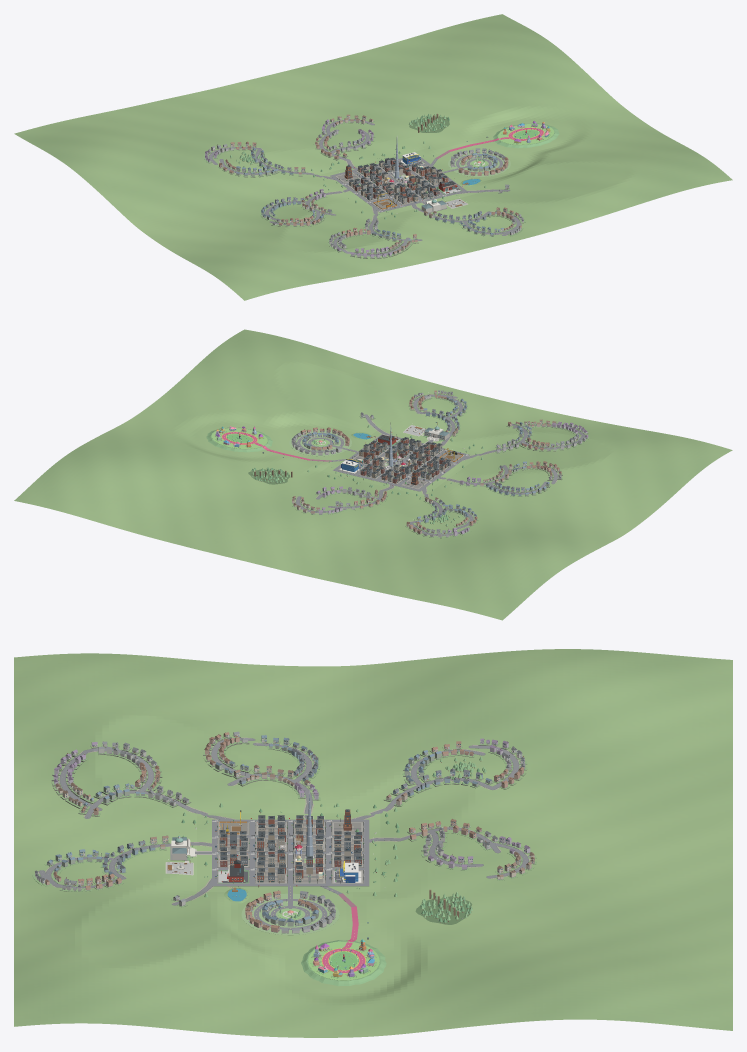
The model's file is town.glb.
The picture shows the model from 3 angles, top to bottom: view 1: azimuth 30°, elevation 25°; view 2: azimuth 150°, elevation 25°; view 3: azimuth 270°, elevation 25°; orthographic projection. The views are drawn at different scales.
Parts seen in each view (by area): view 1: regional_walkable_terrain, hillside_pads, suburban_junction_surfaces, kaleidoscope_crest_street.002, east_woods_batched.001, pad.003; view 2: regional_walkable_terrain, hillside_pads, suburban_junction_surfaces, kaleidoscope_crest_street.002, pad.003, east_woods_batched.001; view 3: regional_walkable_terrain, hillside_pads, suburban_junction_surfaces, kaleidoscope_crest_street.002, hillside_foundations, east_woods_batched.001, pad.003, city_furnishing_bands, suburban_junction_shoulders, city_block_hardscape, city_sidewalks, city_curbs.
Boxes of the visible parts, box(x1,y1,x2,y2) form: regional_walkable_terrain: box(14, 14, 732, 300); hillside_pads: box(203, 117, 525, 258); suburban_junction_surfaces: box(209, 119, 521, 256); kaleidoscope_crest_street.002: box(431, 123, 559, 165); east_woods_batched.001: box(409, 113, 449, 132); pad.003: box(448, 150, 510, 176); regional_walkable_terrain: box(14, 329, 732, 620); hillside_pads: box(290, 392, 589, 538); suburban_junction_surfaces: box(296, 394, 585, 535); kaleidoscope_crest_street.002: box(206, 427, 345, 461); pad.003: box(289, 429, 351, 456); east_woods_batched.001: box(248, 467, 292, 484); regional_walkable_terrain: box(14, 649, 732, 1037); hillside_pads: box(32, 734, 536, 907); suburban_junction_surfaces: box(39, 738, 528, 905); kaleidoscope_crest_street.002: box(301, 886, 386, 986); hillside_foundations: box(51, 737, 533, 906); east_woods_batched.001: box(415, 889, 472, 924); pad.003: box(241, 893, 339, 935); city_furnishing_bands: box(217, 821, 363, 883); suburban_junction_shoulders: box(39, 738, 528, 905); city_block_hardscape: box(220, 823, 361, 882); city_sidewalks: box(217, 822, 363, 883); city_curbs: box(217, 822, 364, 883).
Size of what is drawn, in the model's own units: 1040 by 93.32 by 850.
